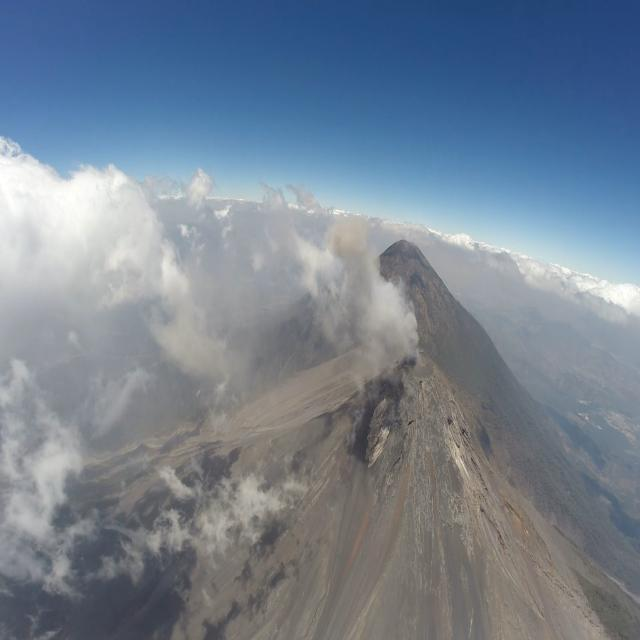Plume: (326, 210, 414, 329)
Summit: (339, 349, 494, 499)
